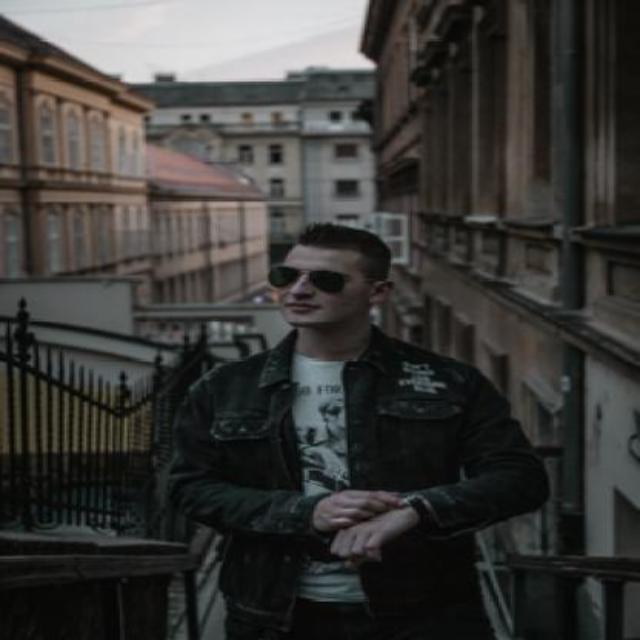sunglasses: (266, 266, 378, 292)
